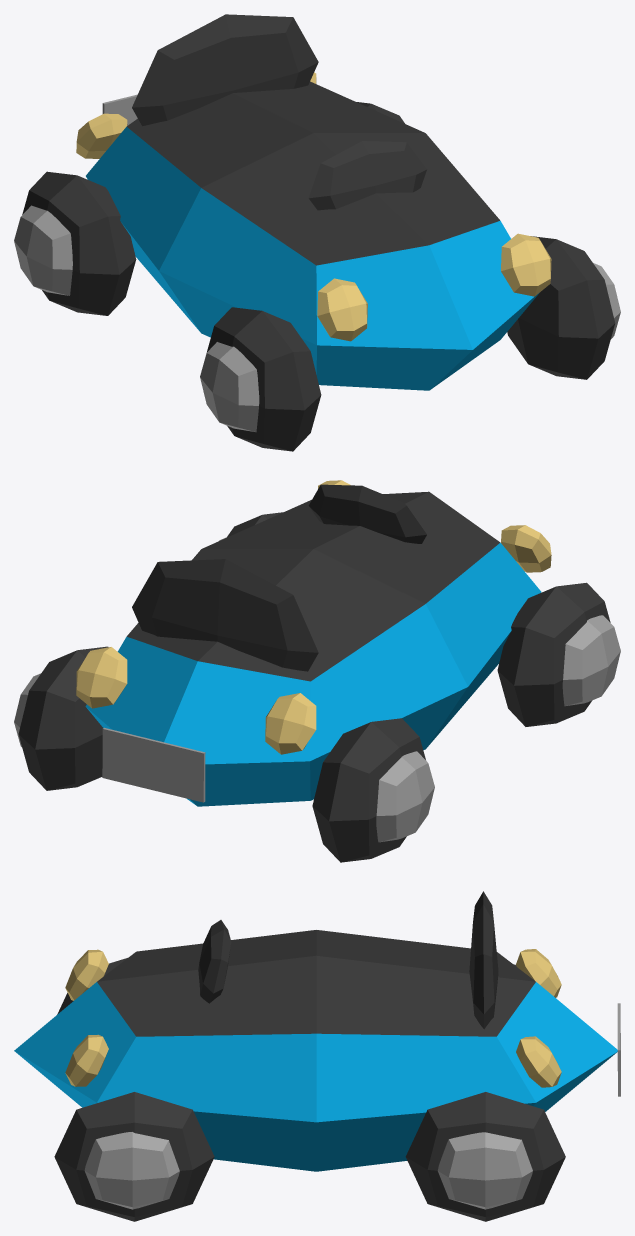
File: carro camino.glb
3 renders of one model, top to bottom at view 1: azimuth 30°, elevation 25°; view 2: azimuth 150°, elevation 25°; view 3: azimuth 270°, elevation 25°, orthographic. The views are drawn at different scales.
Visible parts, largest first — view 1: Cube, Cube.001, Cube.004, Cube.002, Cube.003, Cube.006, Cube.008, Cube.009, Cube.007, Cube.005; view 2: Cube, Cube.002, Cube.004, Cube.001, Cube.005, Cube.007, Cube.009, Cube.003, Cube.008, Cube.006; view 3: Cube, Cube.001, Cube.002, Cube.009, Cube.008, Cube.004, Cube.006, Cube.007, Cube.003.
Boxes of the visible parts, <box> form: Cube: <box>86,81,539,390</box>; Cube.001: <box>207,236,615,451</box>; Cube.004: <box>132,14,318,126</box>; Cube.002: <box>22,102,404,315</box>; Cube.003: <box>308,141,426,210</box>; Cube.006: <box>317,233,551,341</box>; Cube.008: <box>200,263,620,432</box>; Cube.009: <box>14,205,72,295</box>; Cube.007: <box>76,72,316,158</box>; Cube.005: <box>102,94,137,125</box>; Cube: <box>85,491,541,806</box>; Cube.002: <box>18,646,425,862</box>; Cube.004: <box>132,559,318,671</box>; Cube.001: <box>226,512,610,726</box>; Cube.005: <box>102,727,205,802</box>; Cube.007: <box>76,647,316,754</box>; Cube.009: <box>14,673,434,842</box>; Cube.003: <box>308,484,426,543</box>; Cube.008: <box>219,537,620,706</box>; Cube.006: <box>318,480,551,572</box>; Cube: <box>14,930,617,1171</box>; Cube.001: <box>54,958,214,1221</box>; Cube.002: <box>405,964,565,1221</box>; Cube.009: <box>437,1132,532,1209</box>; Cube.008: <box>84,1132,179,1209</box>; Cube.004: <box>469,891,498,1029</box>; Cube.006: <box>65,949,108,1086</box>; Cube.007: <box>516,949,561,1087</box>; Cube.003: <box>198,920,231,1003</box>.
Size of the model in its own units: 3.47 by 2.2 by 4.86.
